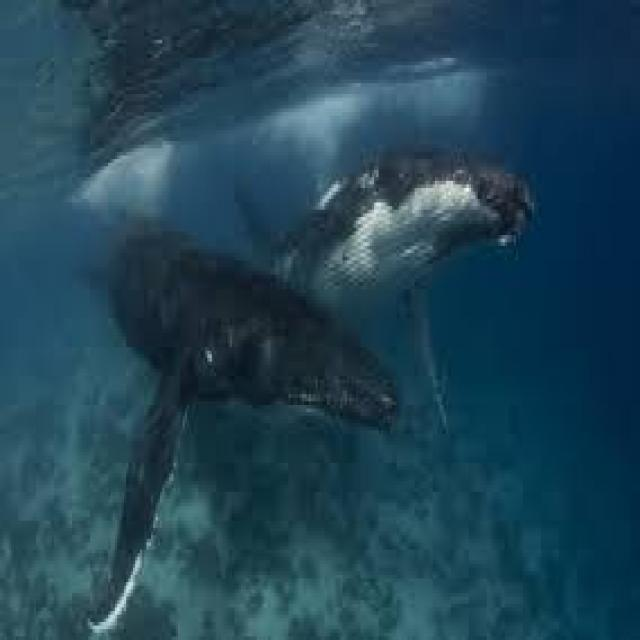blue_whale: (86, 196, 399, 636), (270, 116, 556, 434)
